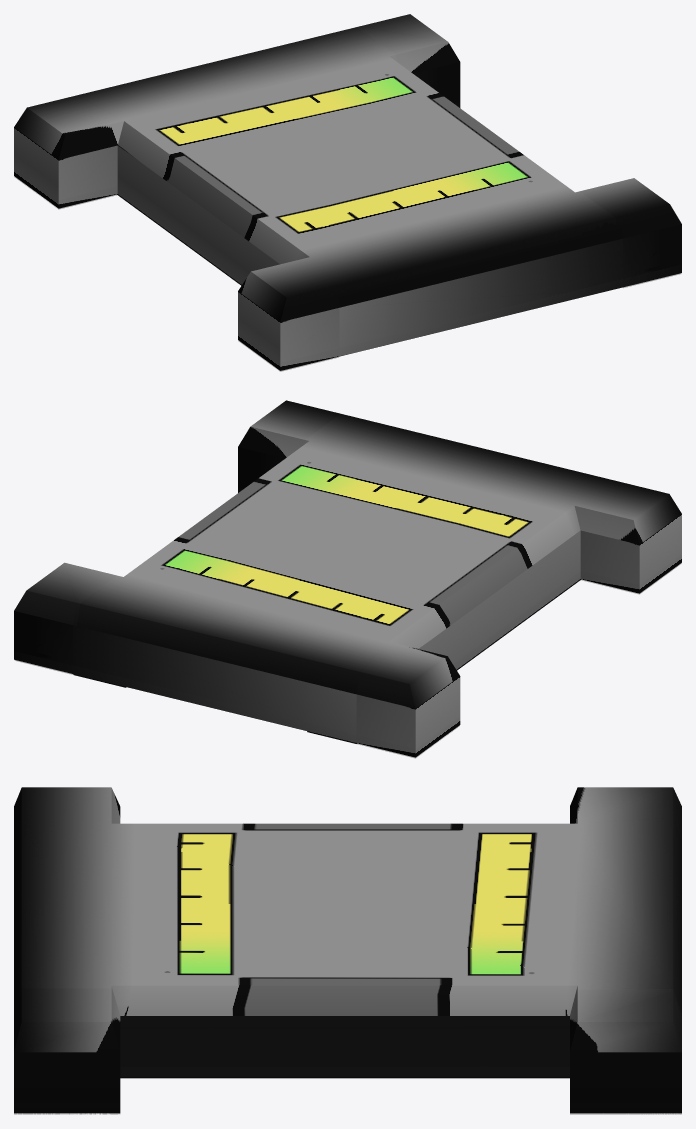
Rendered from BossArm.FBX.
The picture shows the model from 3 angles, top to bottom: view 1: azimuth 30°, elevation 25°; view 2: azimuth 150°, elevation 25°; view 3: azimuth 270°, elevation 25°; orthographic projection. The views are drawn at different scales.
Parts seen in each view (by area): view 1: Box001; view 2: Box001; view 3: Box001.
Part boxes in pixels (left/top/right/bottom): Box001: left=14, top=14, right=681, bottom=371; Box001: left=14, top=400, right=681, bottom=758; Box001: left=14, top=787, right=681, bottom=1114.
Size of the model in its own units: 68.01 by 11.27 by 78.15.
1 material, 1 textured.
